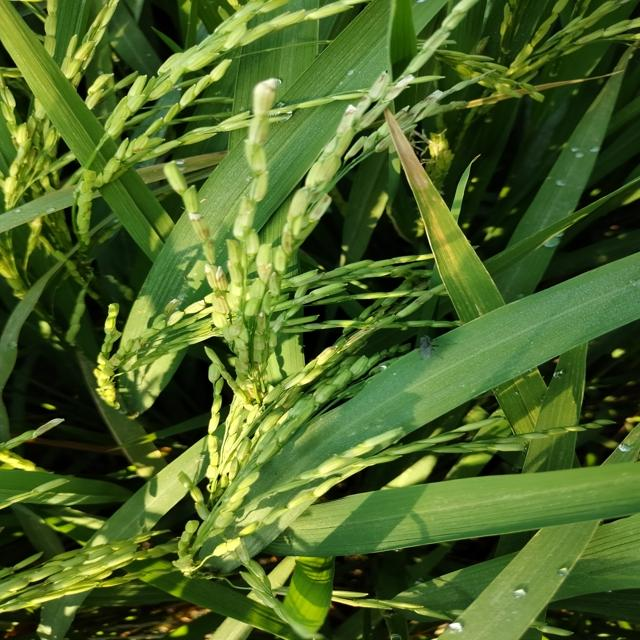healthy: (376, 104, 458, 265)
